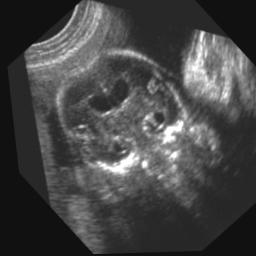abnormal: (20, 20, 214, 202)
